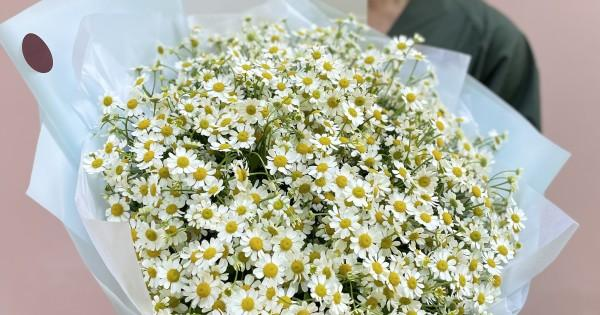chamomile: (455, 129, 488, 180), (239, 227, 275, 267), (247, 260, 293, 287), (162, 146, 206, 174), (148, 261, 188, 291), (238, 57, 284, 83), (138, 217, 168, 253), (184, 161, 221, 188), (329, 207, 360, 239), (129, 115, 167, 141), (188, 275, 219, 306), (138, 143, 163, 179), (155, 194, 187, 222), (232, 187, 279, 206), (99, 196, 129, 224), (226, 288, 257, 315), (419, 205, 447, 234), (279, 235, 310, 261), (355, 228, 383, 256), (239, 98, 268, 125), (374, 263, 401, 292), (79, 149, 105, 179), (389, 193, 416, 221), (309, 275, 335, 303), (198, 243, 227, 268), (361, 256, 388, 282), (432, 255, 460, 280), (444, 275, 479, 295), (189, 203, 220, 225), (330, 281, 350, 315), (104, 158, 132, 182), (380, 230, 402, 260), (399, 269, 420, 300), (272, 150, 297, 176), (217, 213, 242, 239), (255, 284, 282, 307), (207, 138, 238, 158), (164, 223, 189, 247), (352, 182, 376, 207), (230, 127, 255, 150), (463, 251, 485, 277), (395, 160, 416, 187), (335, 163, 354, 192), (336, 254, 358, 279), (419, 168, 441, 193), (309, 156, 336, 176), (234, 195, 253, 223), (474, 283, 493, 311), (307, 41, 326, 68), (310, 131, 333, 153), (356, 148, 376, 173), (336, 106, 362, 125), (271, 296, 297, 315), (316, 255, 334, 282), (461, 228, 488, 246), (374, 206, 396, 228), (406, 229, 427, 251), (483, 252, 500, 279), (472, 183, 489, 210), (210, 79, 234, 98), (309, 176, 333, 195), (145, 181, 163, 206), (124, 96, 144, 118), (180, 245, 202, 265), (300, 70, 320, 91), (177, 98, 200, 116), (322, 58, 342, 78), (289, 305, 329, 315), (102, 95, 126, 111), (394, 303, 426, 315), (216, 112, 239, 128), (135, 179, 149, 205), (198, 113, 215, 133), (339, 75, 353, 99), (405, 89, 419, 111), (279, 95, 299, 110), (274, 78, 291, 95), (372, 109, 389, 126)
